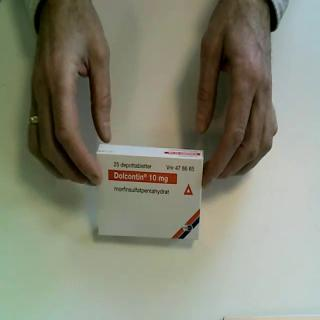dolcontin10mg: (96, 141, 206, 243)
